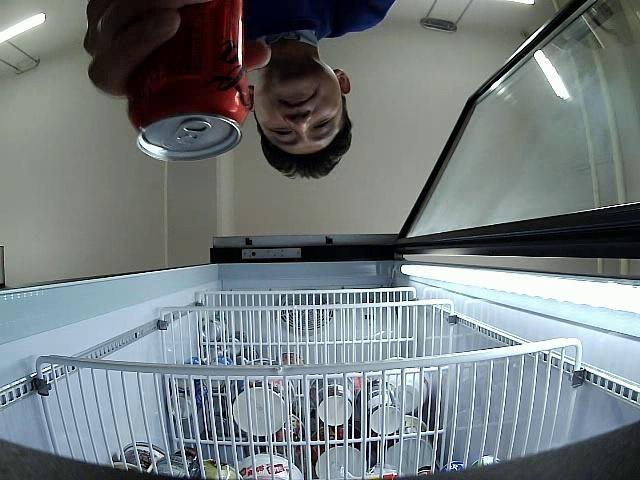11_cocaColaZero: (127, 0, 249, 163)
